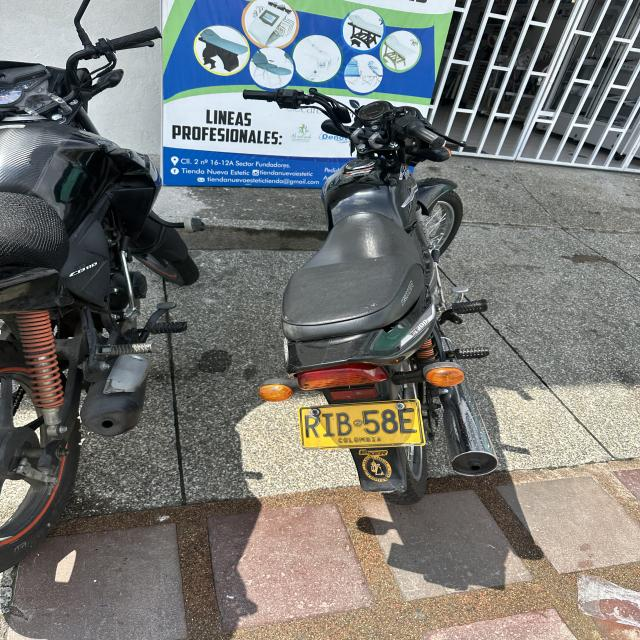number plate: (299, 399, 425, 448)
